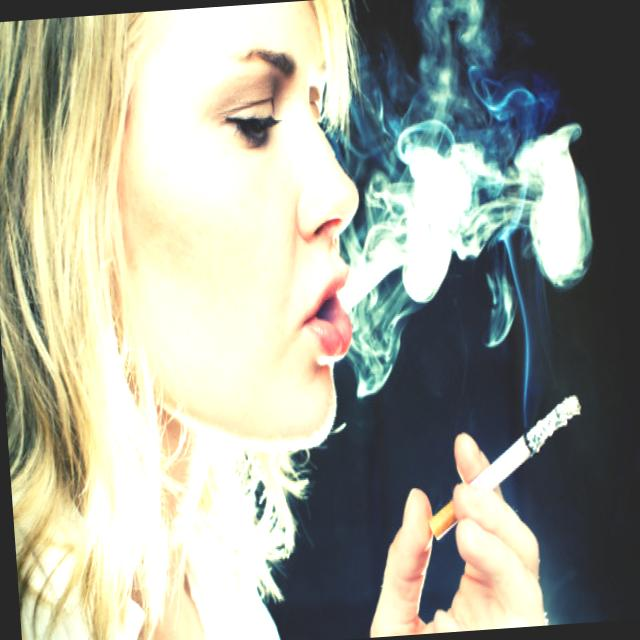smoke: (418, 389, 596, 556)
